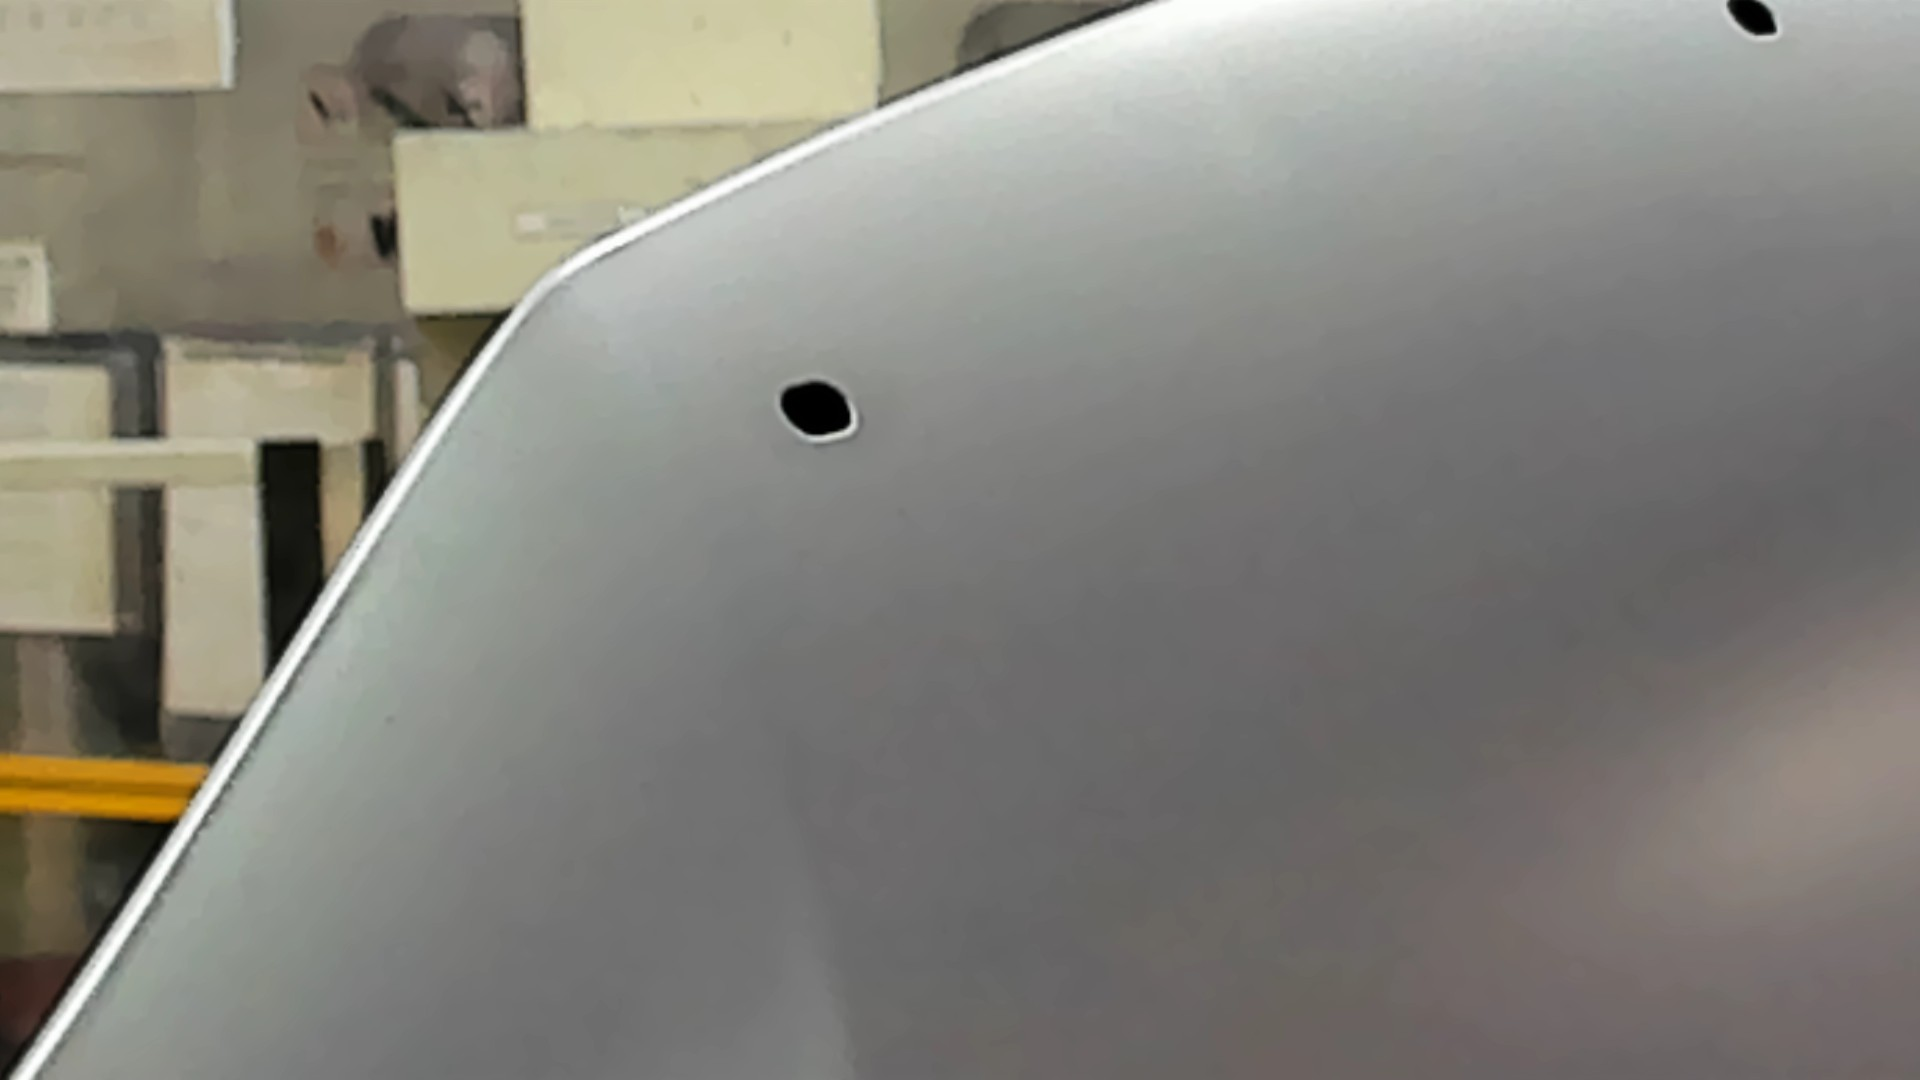amorfo: (773, 375, 865, 444), (1716, 1, 1793, 45)
